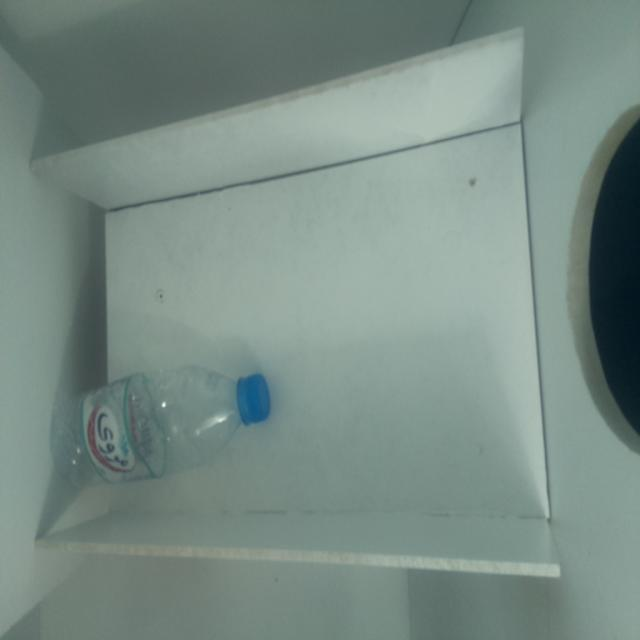plastic_bottle: (50, 369, 271, 486)
